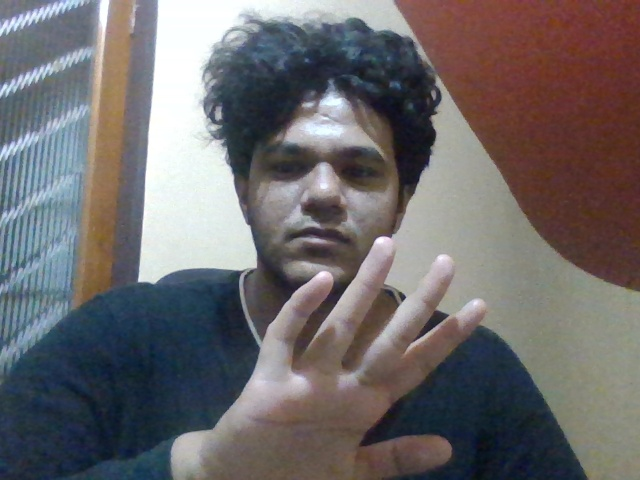hello: (203, 248, 482, 480)
